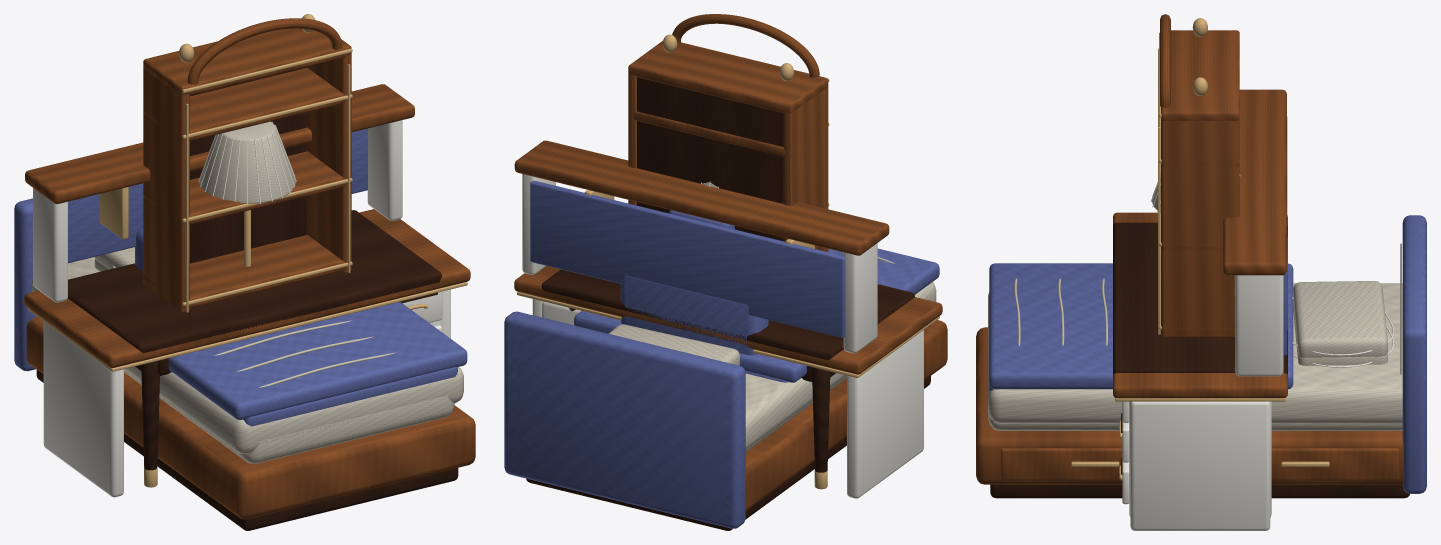
File: study-furniture-e54a1650a659.glb
3 views of the same model, side by side, from view 1: azimuth 30°, elevation 25°; view 2: azimuth 150°, elevation 25°; view 3: azimuth 270°, elevation 25° (orthographic). The views are drawn at different scales.
Parts seen in each view (by area): view 1: Framed stile, Upholstered headboard.001, Solid wood top.001, Upright, Oak frame.001, Solid wood top, Headboard seam.001, Oak frame, Back panel, Shade, Headboard seam, Brass vertical inlay (+6 smaller); view 2: Upholstered headboard, Upholstered headboard.001, Pinboard backing, Solid wood top, Framed stile, Upright, Back panel, Solid wood top.001, Oak frame.001, Seat base, Headboard seam.001, Recessed plinth.001 (+2 smaller); view 3: Upright, Framed stile, Upholstered headboard.001, Headboard seam.001, Oak frame.001, Solid wood top, Solid wood top.001, Recessed plinth.001, Headboard seam, Upholstered headboard, Brass vertical inlay, Floating edge (+3 smaller).
Part boxes in pixels (<box>): Framed stile: <box>143,18,351,311</box>; Upholstered headboard.001: <box>14,199,467,419</box>; Solid wood top.001: <box>68,210,441,470</box>; Upright: <box>33,120,450,497</box>; Oak frame.001: <box>26,317,475,519</box>; Solid wood top: <box>24,84,470,367</box>; Headboard seam.001: <box>32,247,463,454</box>; Oak frame: <box>124,372,461,516</box>; Back panel: <box>190,67,307,263</box>; Shade: <box>199,121,295,203</box>; Headboard seam: <box>94,259,454,463</box>; Brass vertical inlay: <box>179,14,352,312</box>; Upholstered headboard: <box>517,314,787,526</box>; Upholstered headboard.001: <box>504,248,939,528</box>; Pinboard backing: <box>530,181,845,337</box>; Solid wood top: <box>514,140,942,374</box>; Framed stile: <box>628,14,828,251</box>; Upright: <box>522,174,923,498</box>; Back panel: <box>637,77,783,241</box>; Solid wood top.001: <box>541,269,914,472</box>; Oak frame.001: <box>745,320,947,510</box>; Seat base: <box>620,275,768,355</box>; Headboard seam.001: <box>608,257,936,449</box>; Recessed plinth.001: <box>526,376,930,530</box>; Upright: <box>1122,275,1283,530</box>; Framed stile: <box>1160,14,1239,336</box>; Upholstered headboard.001: <box>989,215,1426,493</box>; Headboard seam.001: <box>988,243,1402,423</box>; Oak frame.001: <box>976,327,1403,484</box>; Solid wood top: <box>1113,89,1287,398</box>; Solid wood top.001: <box>1113,222,1287,374</box>; Recessed plinth.001: <box>990,484,1409,498</box>; Headboard seam: <box>988,246,1402,430</box>; Upholstered headboard: <box>989,220,1426,390</box>; Brass vertical inlay: <box>1158,18,1207,334</box>; Floating edge: <box>1115,275,1285,480</box>.
Size of the model in its own units: 1.9 by 2.12 by 2.06.
Materials: 10 (4 with a texture image).
